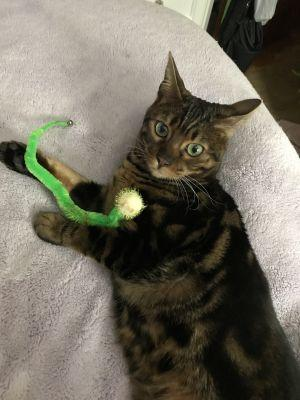bengal: (129, 48, 271, 193)
